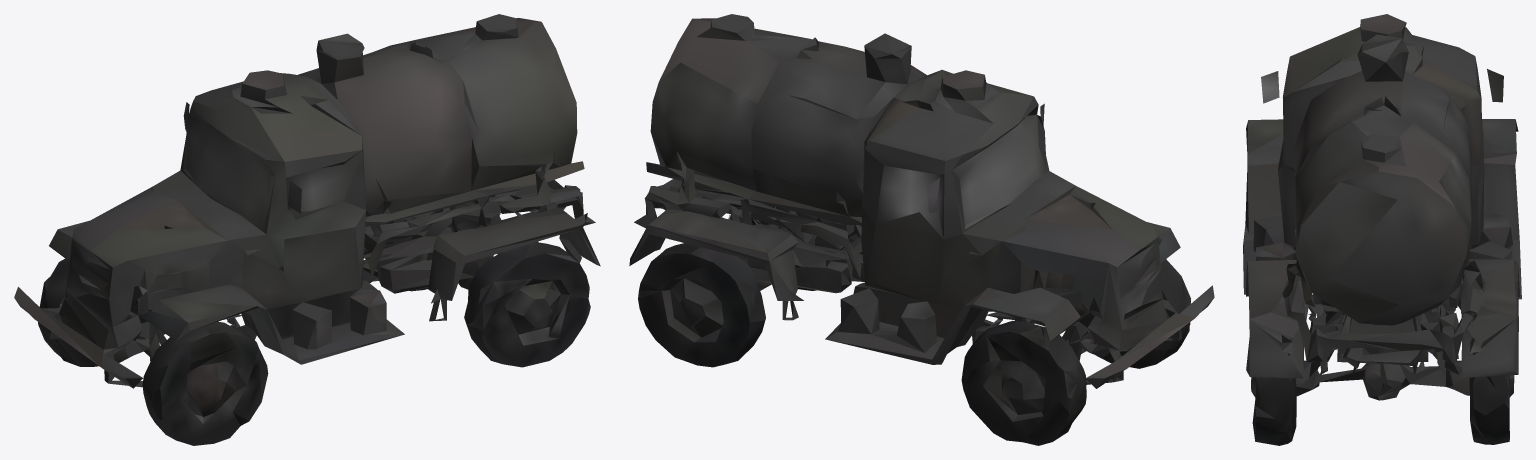
Rendered from water_tanker.glb.
3 views of the same model, side by side, from view 1: azimuth 30°, elevation 25°; view 2: azimuth 150°, elevation 25°; view 3: azimuth 270°, elevation 25° (orthographic). The views are drawn at different scales.
Size of the model in its own units: 5.63 by 3.4 by 2.65.
Materials: 1 (1 with a texture image).
